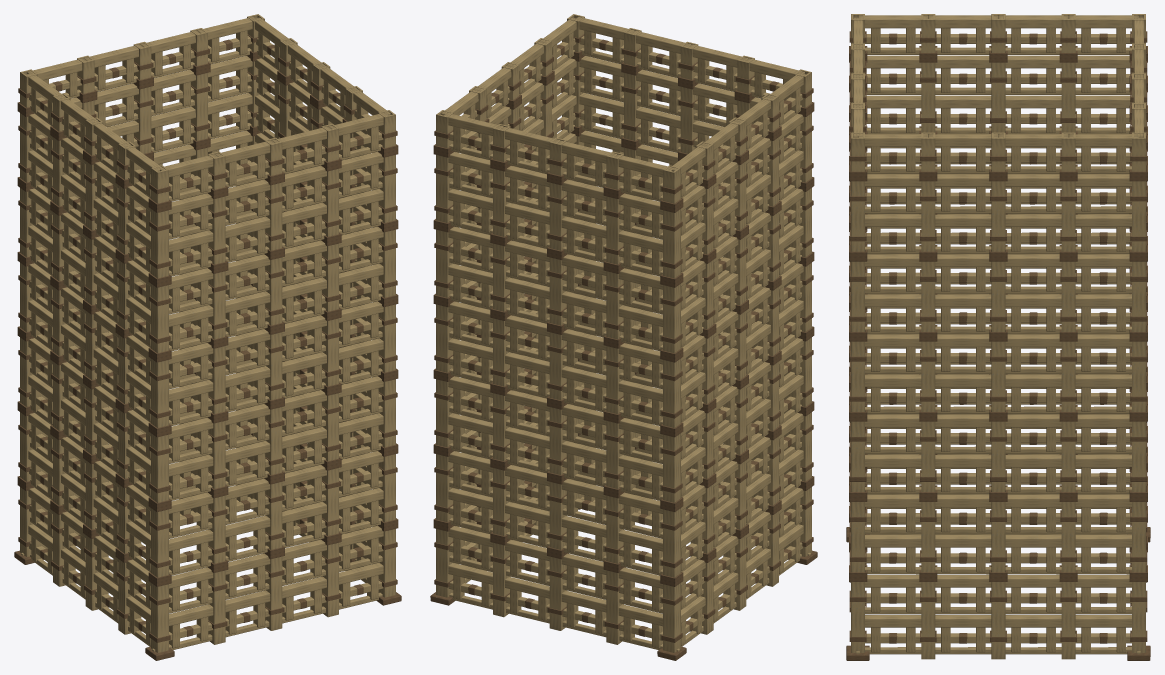
The picture shows the model from 3 angles, left to right: view 1: azimuth 30°, elevation 25°; view 2: azimuth 150°, elevation 25°; view 3: azimuth 270°, elevation 25°; orthographic projection. The views are drawn at different scales.
Parts seen in each view (by area): view 1: Tier 0 side 0 post 0, Tier 2 side 0 post 0, Tier 1 side 0 post 0, Tier 3 side 0 post 0, Tier 4 side 0 post 0, Tier 5 side 0 post 0, Tier 0 side 0 post 2, Tier 0 side 0 post 1, Tier 0 side 0 post 3, Tier 4 side 0 post 2, Tier 1 side 0 post 2, Tier 5 side 0 post 2 (+78 smaller); view 2: Tier 0 side 3 post 0, Tier 1 side 3 post 0, Tier 5 side 3 post 0, Tier 2 side 3 post 0, Tier 3 side 3 post 0, Tier 4 side 3 post 0, Tier 0 side 2 post 2, Tier 0 side 2 post 3, Tier 0 side 2 post 1, Tier 3 side 2 post 2, Tier 4 side 2 post 2, Tier 5 side 2 post 2 (+78 smaller); view 3: Tier 0 side 1 post 2, Tier 0 side 1 post 1, Tier 0 side 1 post 3, Tier 3 side 1 post 2, Tier 4 side 1 post 2, Tier 5 side 1 post 2, Tier 5 side 1 post 1, Tier 5 side 1 post 3, Tier 3 side 1 post 1, Tier 3 side 1 post 3, Tier 4 side 1 post 1, Tier 4 side 1 post 3 (+93 smaller).
Part boxes in pixels (<box>): Tier 0 side 0 post 0: <box>151,583,168,652</box>; Tier 2 side 0 post 0: <box>151,433,168,502</box>; Tier 1 side 0 post 0: <box>151,508,168,577</box>; Tier 3 side 0 post 0: <box>151,358,168,427</box>; Tier 4 side 0 post 0: <box>151,284,168,353</box>; Tier 5 side 0 post 0: <box>151,209,168,278</box>; Tier 0 side 0 post 2: <box>265,556,282,630</box>; Tier 0 side 0 post 1: <box>208,570,225,644</box>; Tier 0 side 0 post 3: <box>322,542,338,617</box>; Tier 4 side 0 post 2: <box>265,257,282,325</box>; Tier 1 side 0 post 2: <box>265,482,282,549</box>; Tier 5 side 0 post 2: <box>265,182,282,250</box>; Tier 0 side 3 post 0: <box>663,583,680,652</box>; Tier 1 side 3 post 0: <box>663,508,680,577</box>; Tier 5 side 3 post 0: <box>663,209,680,278</box>; Tier 2 side 3 post 0: <box>663,433,680,502</box>; Tier 3 side 3 post 0: <box>663,358,680,427</box>; Tier 4 side 3 post 0: <box>663,284,680,353</box>; Tier 0 side 2 post 2: <box>549,556,567,630</box>; Tier 0 side 2 post 3: <box>606,570,623,644</box>; Tier 0 side 2 post 1: <box>493,542,510,617</box>; Tier 3 side 2 post 2: <box>549,332,566,400</box>; Tier 4 side 2 post 2: <box>549,257,566,325</box>; Tier 5 side 2 post 2: <box>549,182,567,250</box>; Tier 0 side 1 post 2: <box>991,582,1005,659</box>; Tier 0 side 1 post 1: <box>921,582,935,659</box>; Tier 0 side 1 post 3: <box>1061,582,1075,659</box>; Tier 3 side 1 post 2: <box>991,341,1005,411</box>; Tier 4 side 1 post 2: <box>991,261,1005,331</box>; Tier 5 side 1 post 2: <box>991,181,1005,251</box>; Tier 5 side 1 post 1: <box>921,181,935,251</box>; Tier 5 side 1 post 3: <box>1061,181,1075,251</box>; Tier 3 side 1 post 1: <box>921,341,935,411</box>; Tier 3 side 1 post 3: <box>1061,341,1075,411</box>; Tier 4 side 1 post 1: <box>921,261,935,331</box>; Tier 4 side 1 post 3: <box>1061,261,1075,331</box>.
Size of the model in its own units: 1.95 by 3.68 by 1.95.
2 materials, 2 textured.
